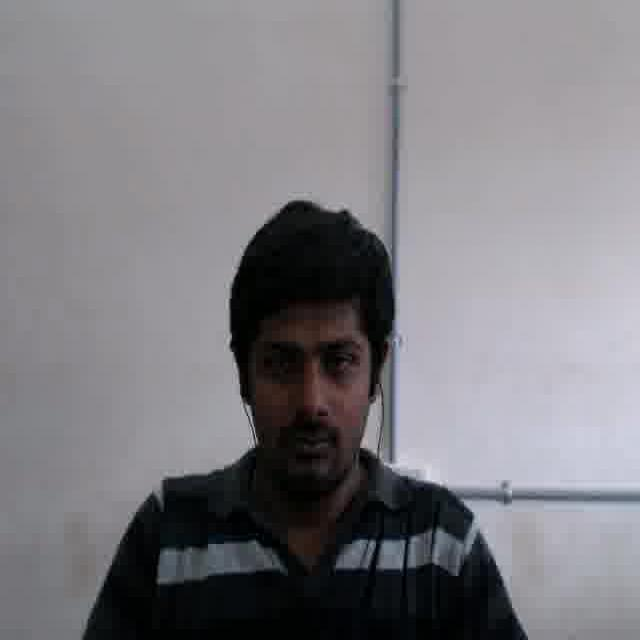Engaged: (248, 296, 366, 487)
